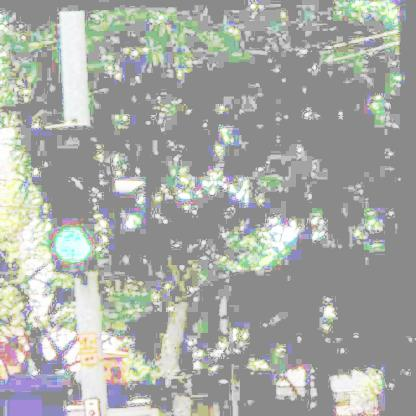Traffic Light -Green-: (45, 122, 97, 272)
